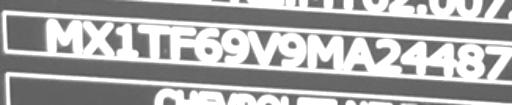letter: (41, 13, 89, 58), (302, 32, 350, 75), (80, 17, 120, 62), (136, 21, 176, 64), (341, 36, 381, 79), (245, 26, 285, 67), (368, 38, 408, 77), (425, 37, 461, 80), (192, 19, 224, 66), (454, 42, 488, 85), (112, 18, 144, 63), (276, 30, 310, 71), (397, 37, 431, 78), (220, 26, 252, 69), (480, 42, 510, 85), (168, 21, 196, 66)
